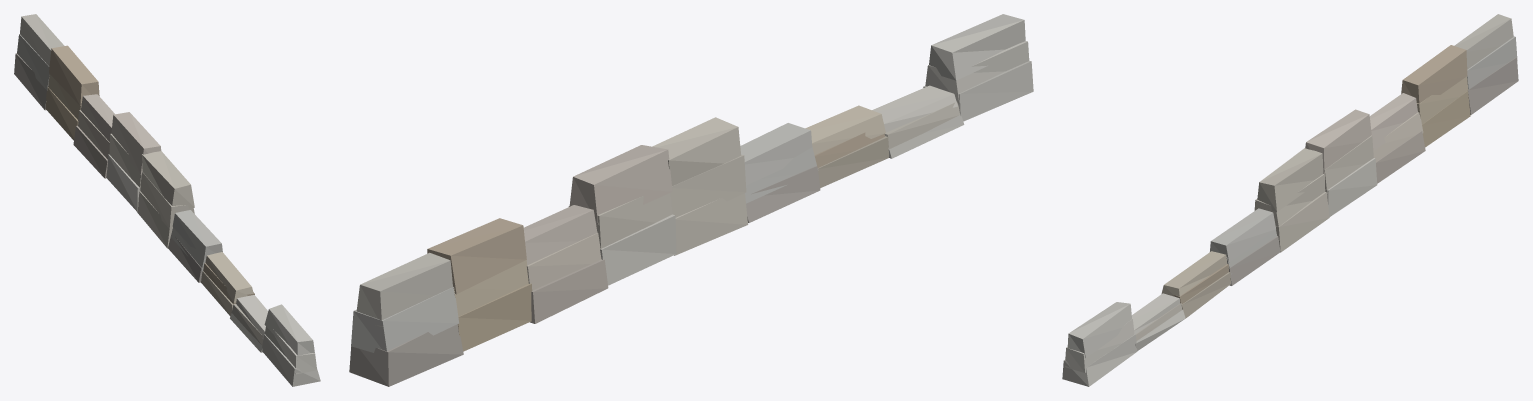
File: farm_7_26_mid.glb
3 renders of one model, left to right at view 1: azimuth 30°, elevation 25°; view 2: azimuth 150°, elevation 25°; view 3: azimuth 330°, elevation 25°, orthographic. The views are drawn at different scales.
Visible parts, largest first — view 1: geometry_0; view 2: geometry_0; view 3: geometry_0.
Part boxes in pixels (x1,y1,x2,y2): geometry_0: (14, 14, 320, 386); geometry_0: (349, 14, 1033, 386); geometry_0: (1062, 14, 1518, 386).
Size of the model in its own units: 2.07 by 2.45 by 14.07.
